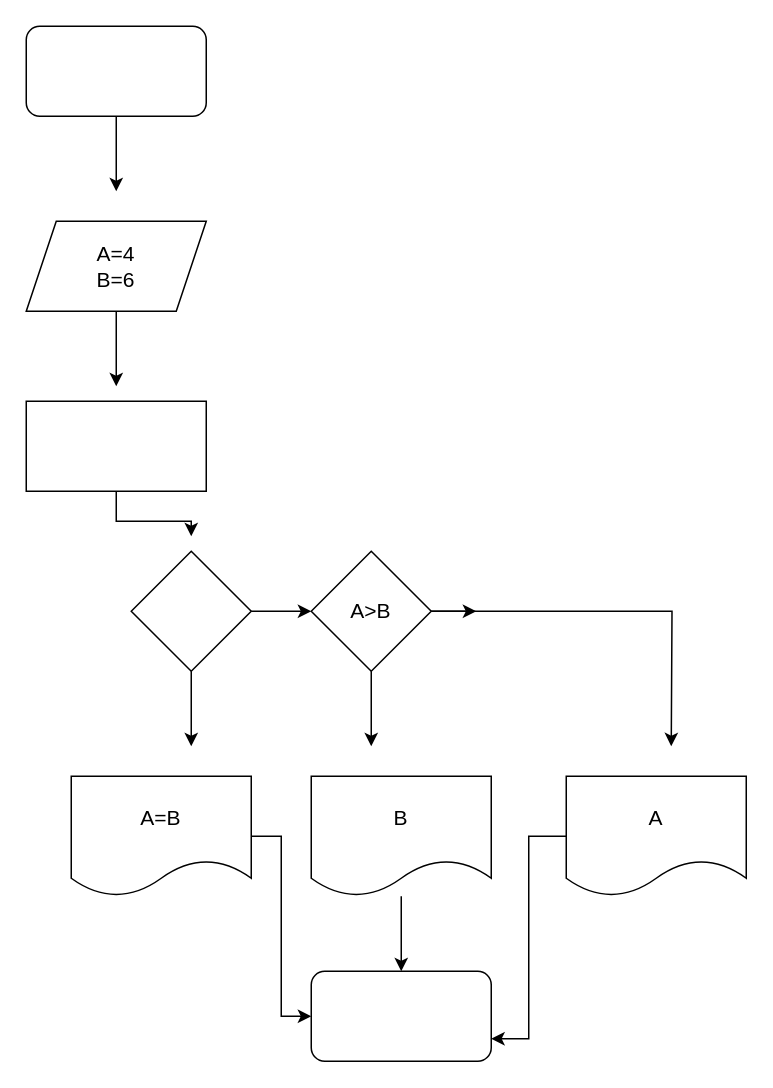
Image size: 773x1088. Some labels were removed from this diagram. The shapes that lost their labels are listed below. From the top down, each one's box as (x1, y1, x2, y2) in pixels, then its label:
(25, 25, 206, 116): INICIO
(25, 400, 206, 491): C=A+B
(130, 550, 251, 671): A<>B
